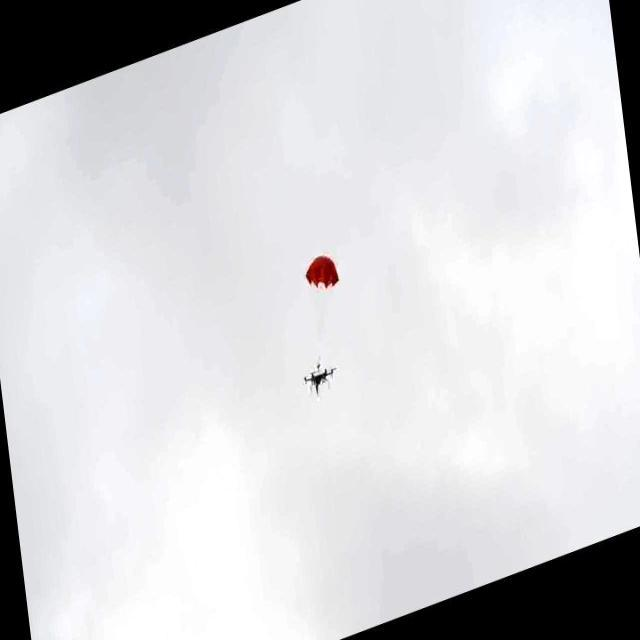drone: (299, 348, 340, 400)
